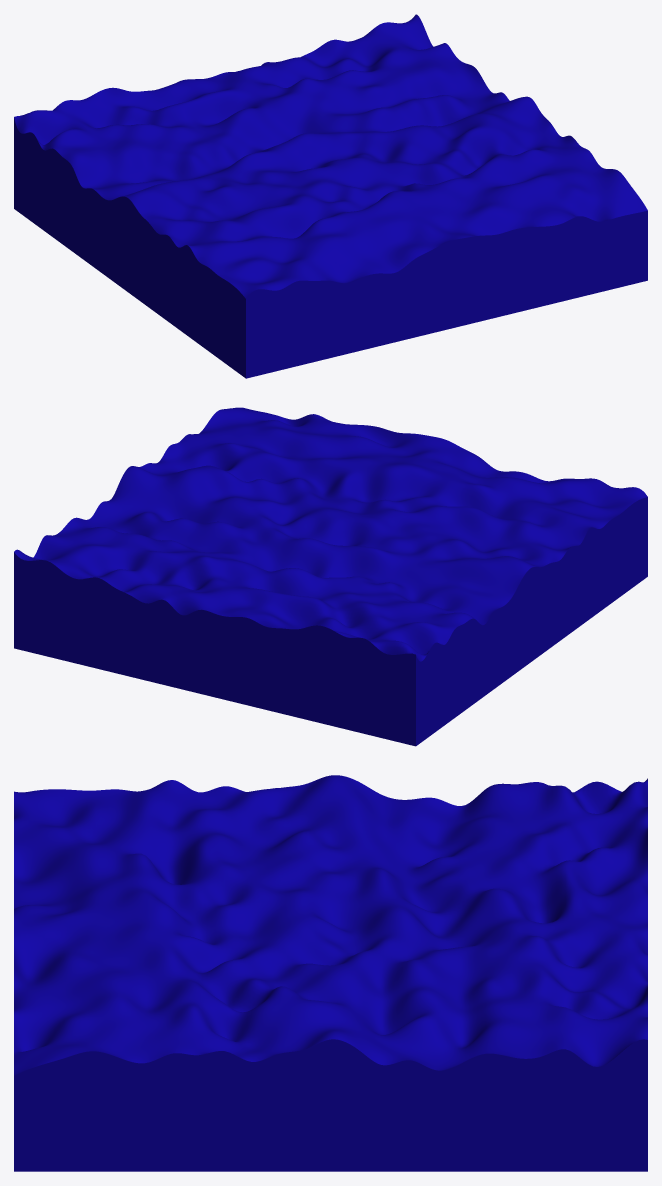
File: testing123fogv3.glb
3 renders of one model, top to bottom at view 1: azimuth 30°, elevation 25°; view 2: azimuth 150°, elevation 25°; view 3: azimuth 270°, elevation 25°, orthographic. The views are drawn at different scales.
Visible parts, largest first — view 1: fog_block_1.001; view 2: fog_block_1.001; view 3: fog_block_1.001.
Part boxes in pixels (x1,y1,x2,y2): fog_block_1.001: (14,14,647,378); fog_block_1.001: (14,407,647,746); fog_block_1.001: (14,775,647,1171).
Bounding box in the file's own units: 10 × 2.35 × 10.
